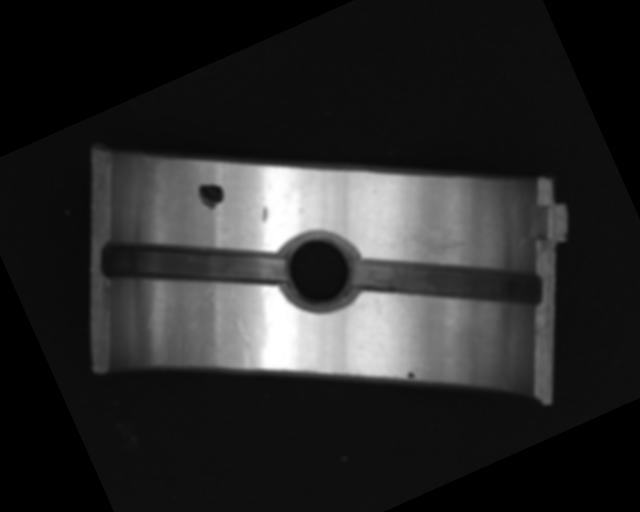blot: (194, 176, 229, 213), (404, 368, 418, 382)
bruise: (223, 315, 264, 371), (256, 204, 271, 224)
gap: (348, 199, 547, 366), (96, 182, 289, 343)
hole: (268, 218, 371, 324)
scratch: (386, 194, 488, 277)
